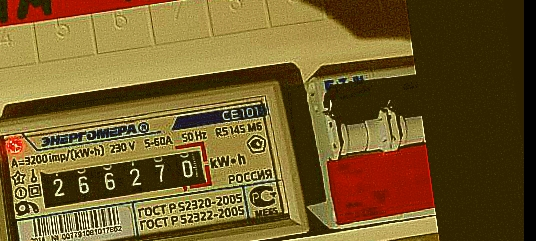0: (179, 157, 195, 179)
2: (50, 176, 67, 198), (127, 166, 144, 187)
6: (102, 170, 118, 192), (76, 173, 91, 196)
7: (153, 162, 167, 183)
screen: (29, 138, 219, 216)
